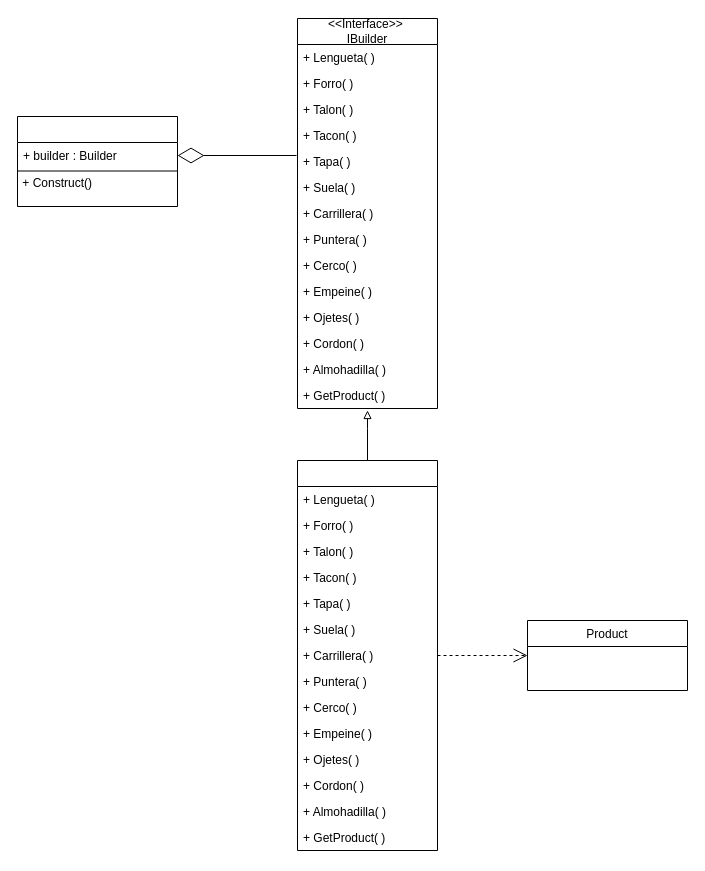
The diagram is 705 pixels wide and 871 high, and some of its shapes have lost their labels. The shapes that lost their labels are listed below. From the top down, each one's box as (x1, y1, x2, y2) in pixels, then its label:
(16, 116, 178, 206): Director
(296, 460, 438, 850): ConcreteBuilder
